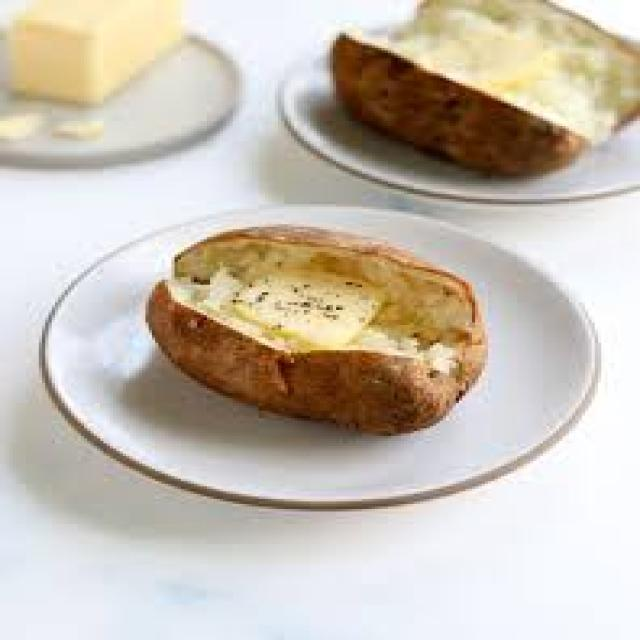Baked Potato: (143, 224, 501, 436)
